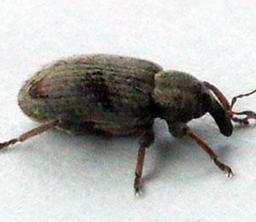weevils: (0, 28, 256, 217)
